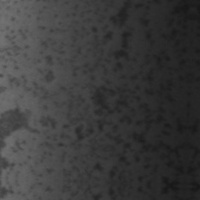pitted_surface: (0, 0, 187, 172), (0, 103, 38, 175)
